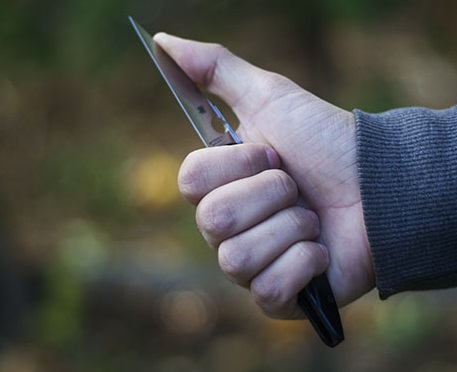knife: (118, 7, 324, 240)
